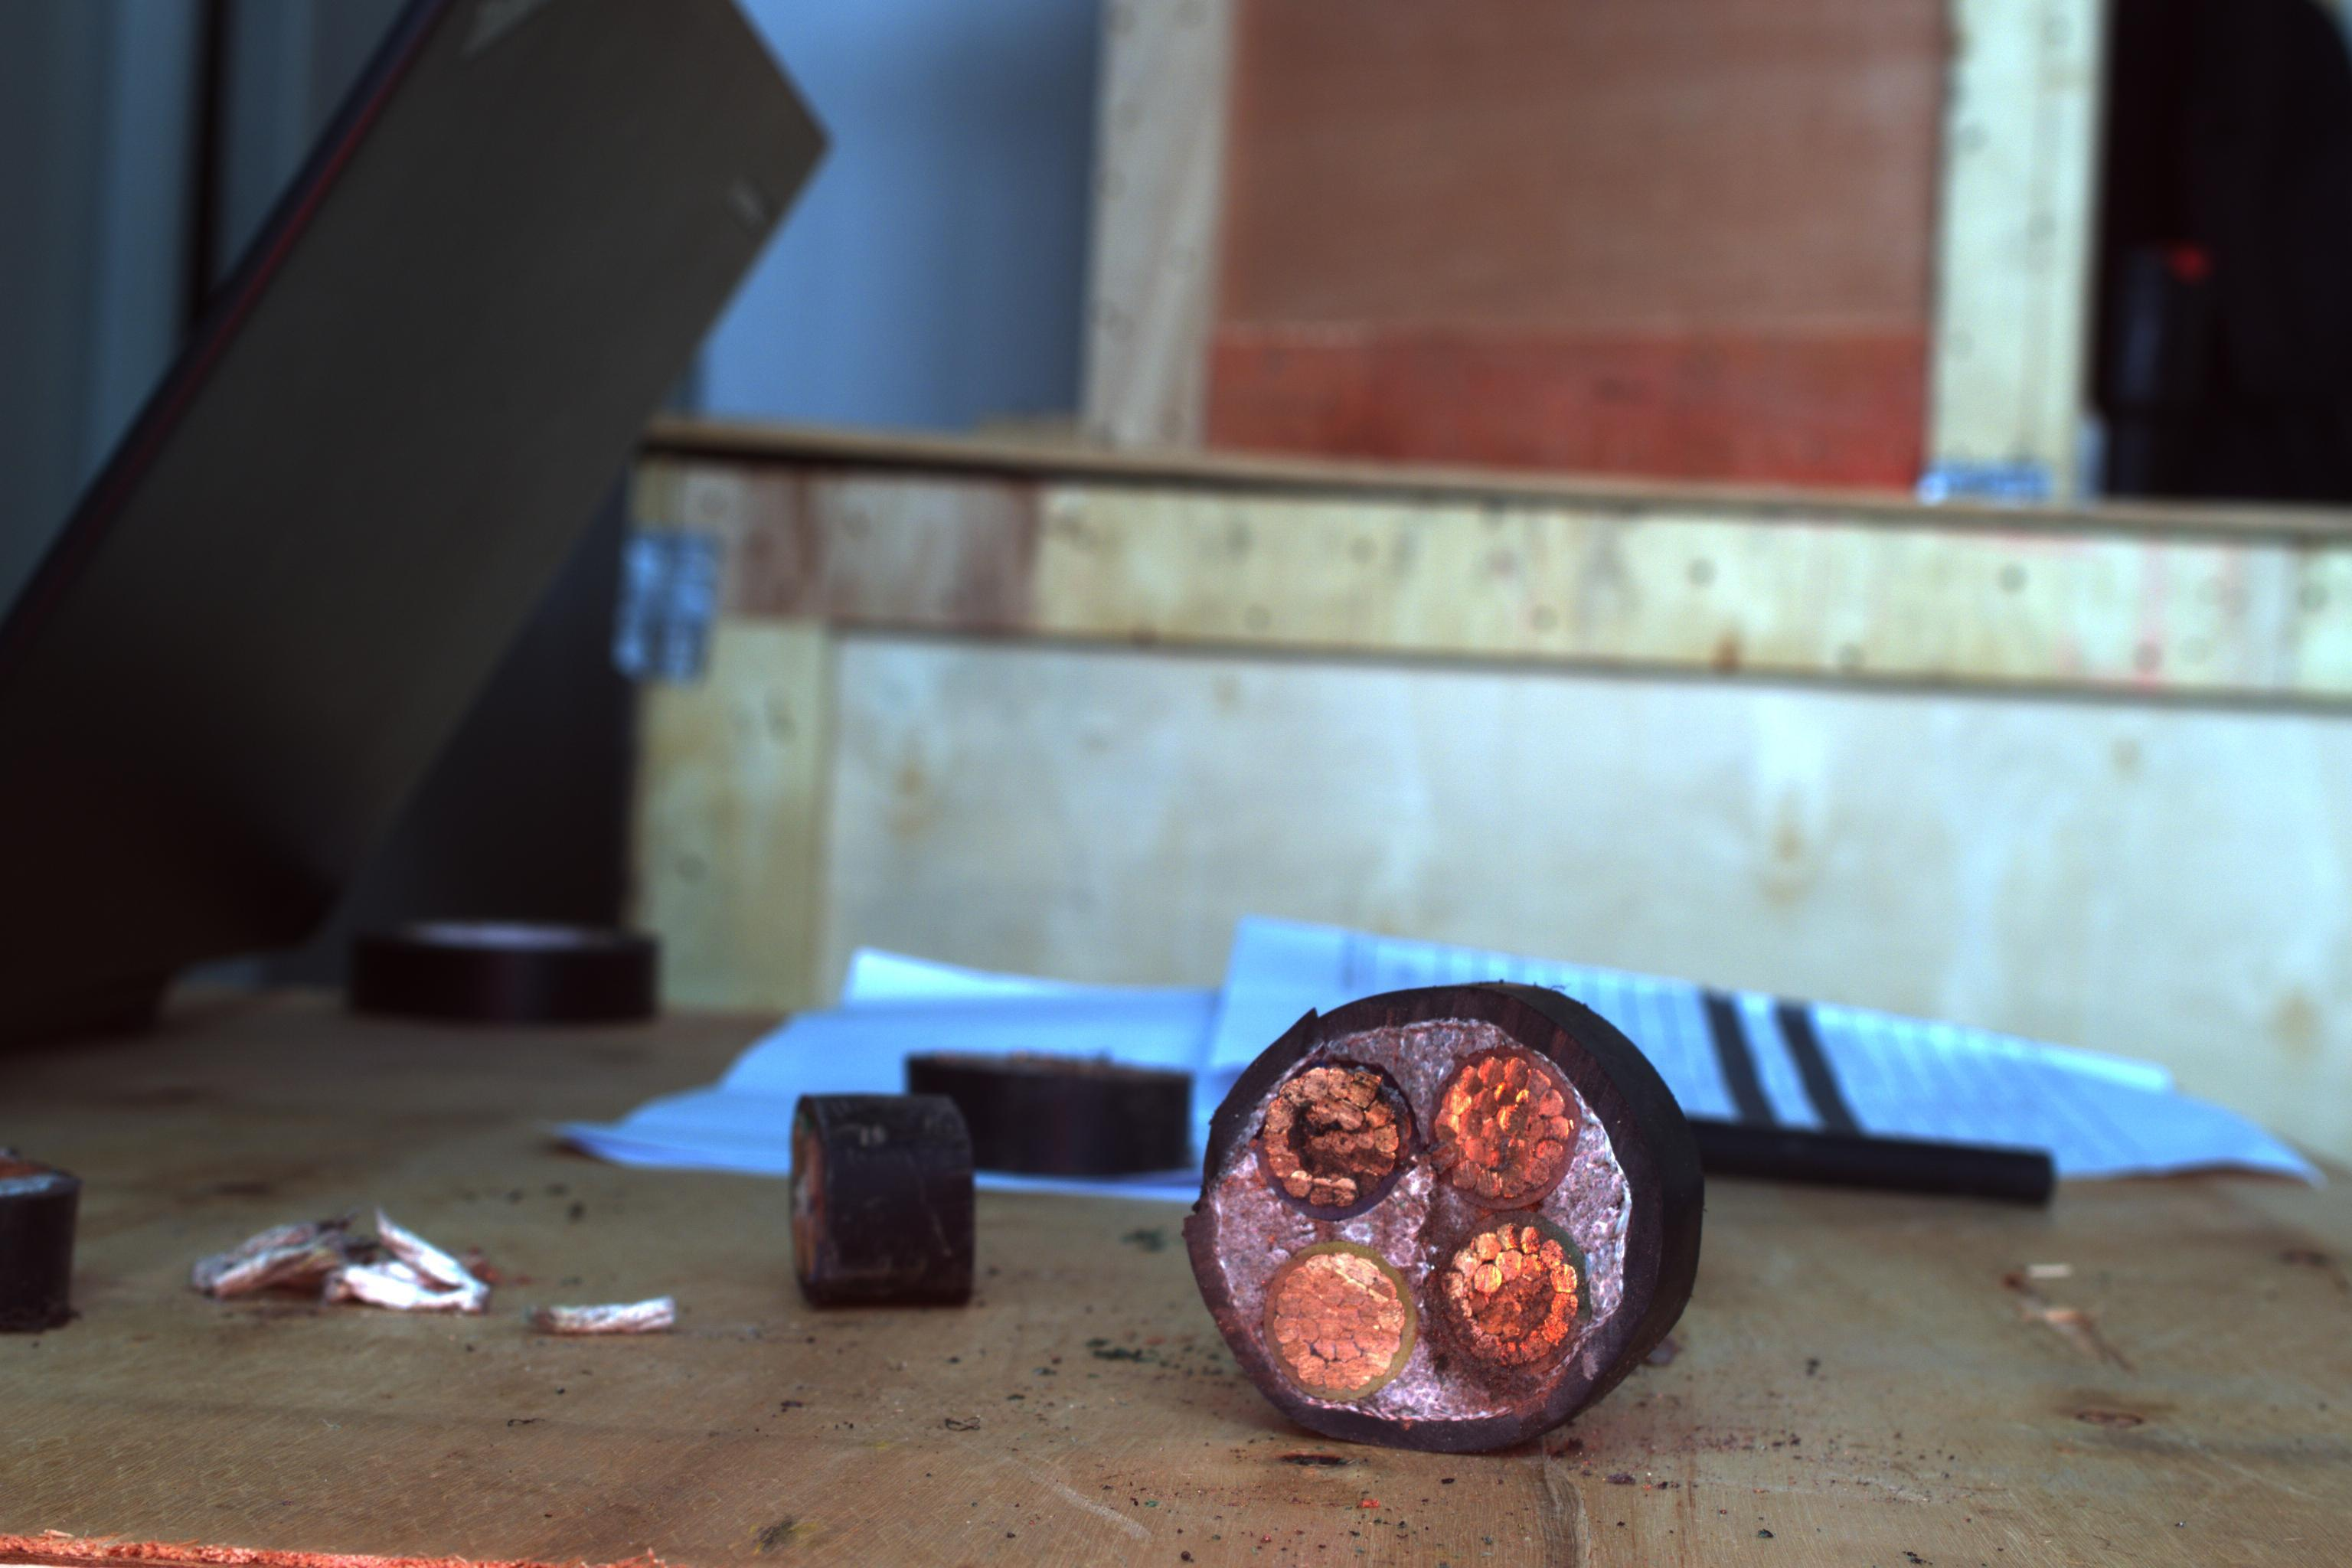YJV_0.6_1kV_4x120: (1181, 992, 1652, 1430)
